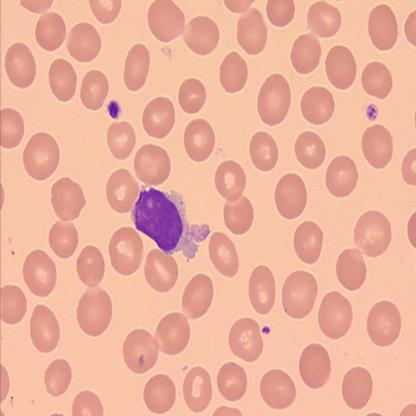Atypical lymphocyte: (130, 182, 210, 256)
